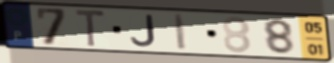7: (35, 6, 70, 47)
8: (260, 18, 297, 56), (222, 15, 254, 55)
I: (172, 12, 189, 52)
J: (128, 14, 159, 49)
T: (73, 7, 108, 49)
